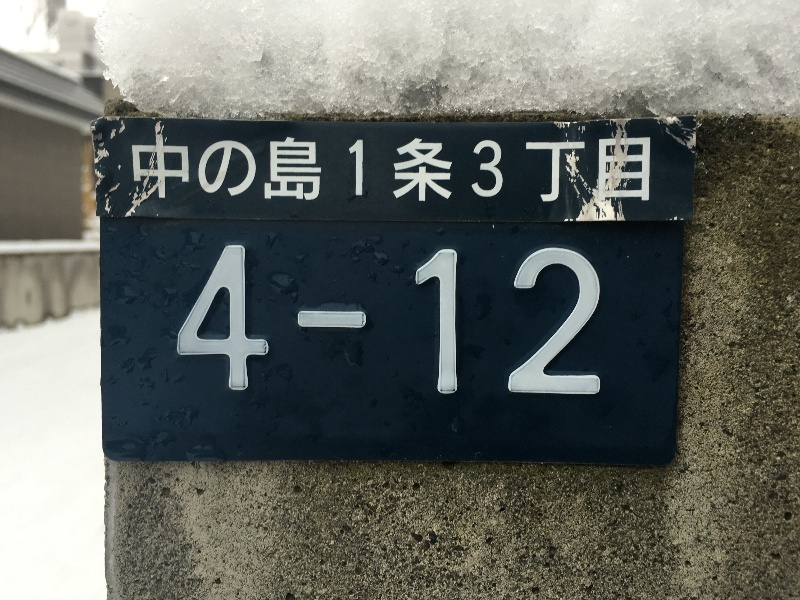text: (193, 248, 208, 397), (209, 248, 224, 397), (225, 248, 240, 397), (241, 248, 256, 397), (257, 248, 272, 397), (273, 248, 288, 397), (289, 248, 304, 397), (305, 248, 320, 397), (321, 248, 336, 397), (337, 248, 352, 397), (353, 248, 368, 397), (369, 248, 384, 397), (385, 248, 400, 397), (401, 248, 416, 397), (417, 248, 432, 397), (433, 248, 448, 397), (449, 248, 464, 397), (465, 248, 480, 397), (481, 248, 496, 397), (497, 248, 512, 397), (513, 248, 528, 397), (529, 248, 544, 397), (545, 248, 560, 397), (561, 248, 576, 397), (577, 248, 592, 397), (178, 248, 192, 397), (593, 248, 603, 397), (145, 134, 160, 203), (161, 134, 176, 203), (177, 134, 192, 203), (193, 134, 208, 203), (209, 134, 224, 203), (225, 134, 240, 203), (241, 134, 256, 203), (257, 134, 272, 203), (273, 134, 288, 203), (289, 134, 304, 203), (305, 134, 320, 203), (321, 134, 336, 203), (337, 134, 352, 203), (353, 134, 368, 203), (369, 134, 384, 203), (385, 134, 400, 203), (401, 134, 416, 203), (417, 134, 432, 203), (433, 134, 448, 203), (449, 134, 464, 203), (465, 134, 480, 203), (481, 134, 496, 203), (497, 134, 512, 203), (513, 134, 528, 203), (529, 134, 544, 203), (545, 134, 560, 203), (561, 134, 576, 203), (577, 134, 592, 203), (593, 134, 608, 203), (609, 134, 624, 203), (625, 134, 640, 203), (132, 134, 144, 203), (641, 134, 652, 203)
